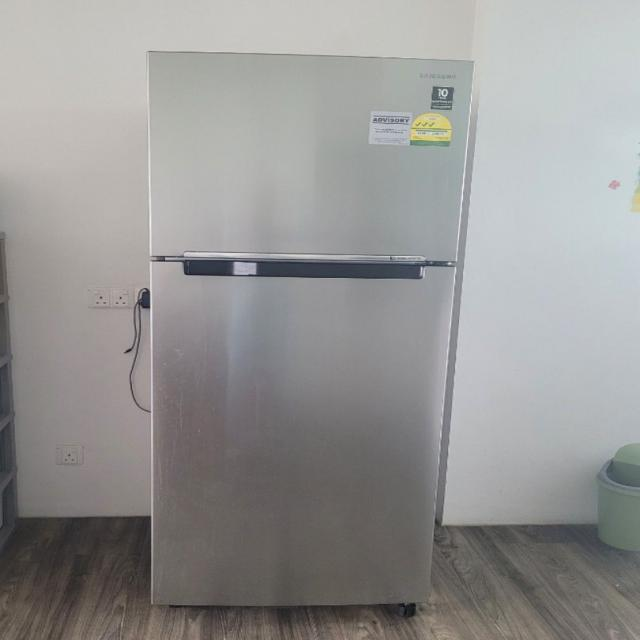refrigerator: (145, 49, 473, 610)
